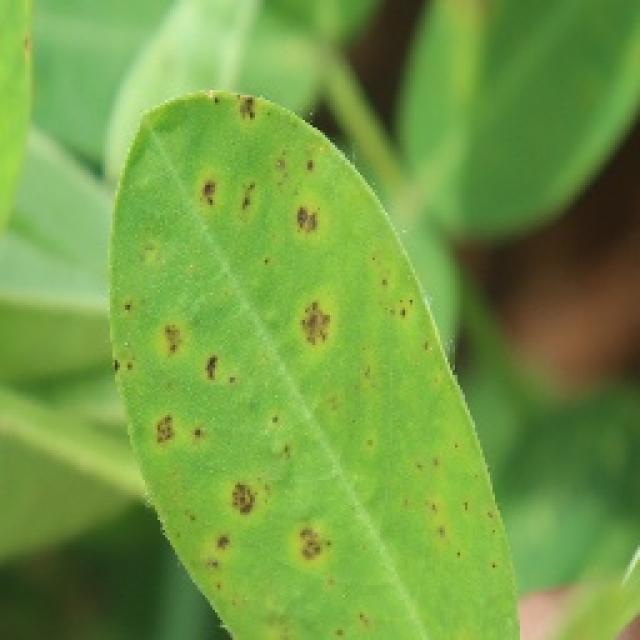Early_leaf_spot: (180, 143, 278, 231), (270, 270, 346, 372), (268, 481, 340, 585), (158, 315, 238, 401), (207, 80, 297, 155), (279, 163, 339, 254), (210, 461, 276, 527), (130, 391, 194, 458), (305, 580, 376, 633), (113, 287, 166, 356)
